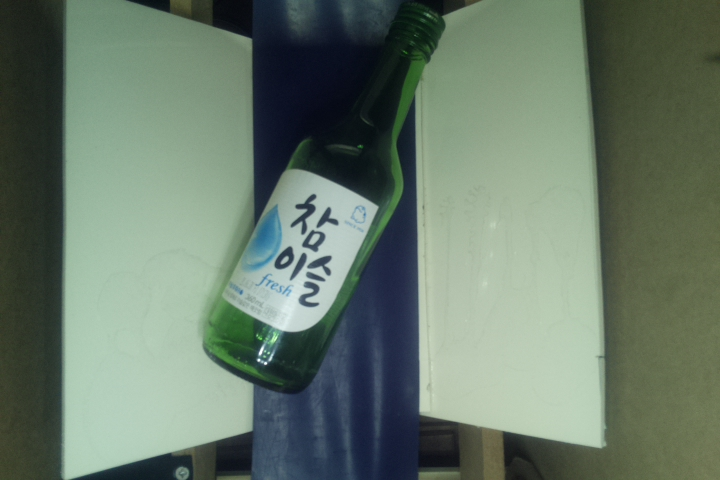soju: (203, 1, 453, 392)
